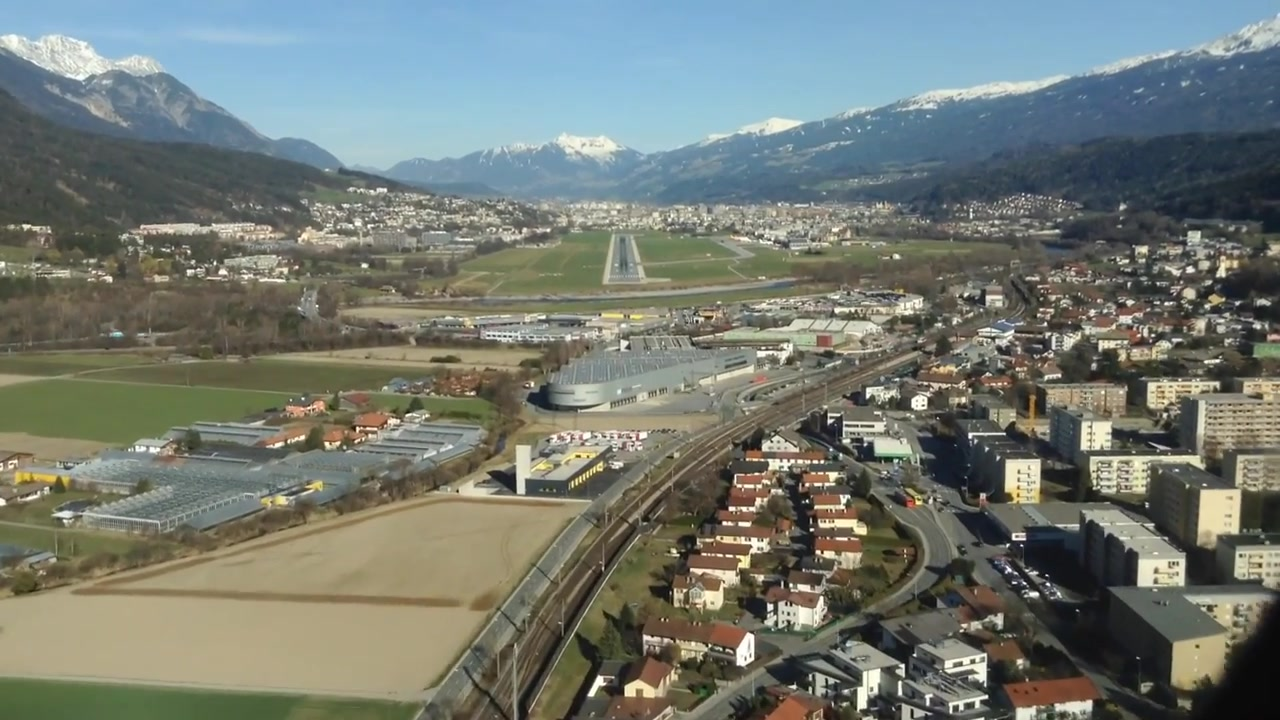entrance: (602, 274, 640, 279)
runway: (603, 234, 641, 282)
